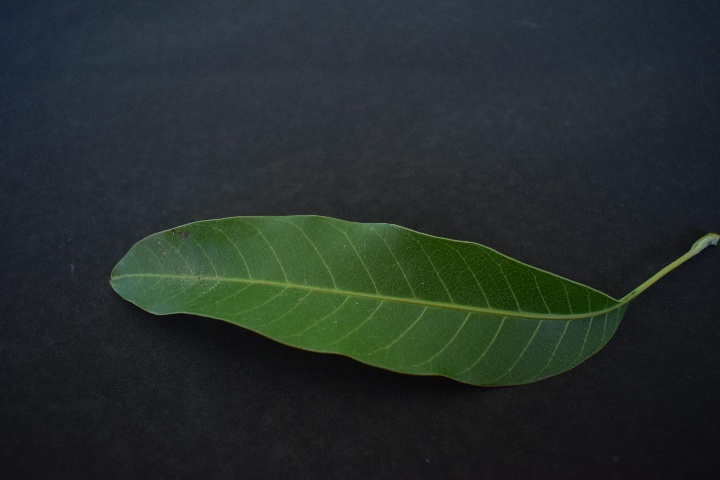healthy: (102, 211, 648, 406)
